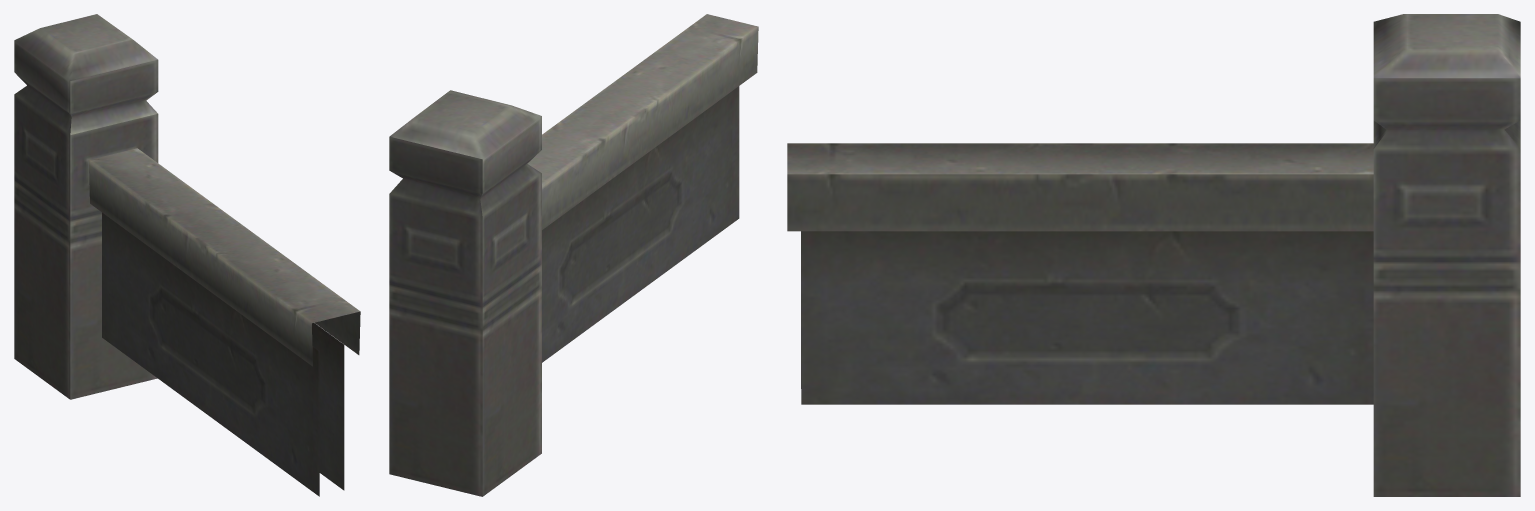
The model's file is City_bujian_28.fbx.
3 views of the same model, side by side, from view 1: azimuth 30°, elevation 25°; view 2: azimuth 150°, elevation 25°; view 3: azimuth 270°, elevation 25° (orthographic). The views are drawn at different scales.
Parts seen in each view (by area): view 1: City_1_2017_3_7_2:City_1_2017_3_7_2:City_1_2017_3_7_2:polySu; view 2: City_1_2017_3_7_2:City_1_2017_3_7_2:City_1_2017_3_7_2:polySu; view 3: City_1_2017_3_7_2:City_1_2017_3_7_2:City_1_2017_3_7_2:polySu.
Part boxes in pixels (x1=…): City_1_2017_3_7_2:City_1_2017_3_7_2:City_1_2017_3_7_2:polySu: x1=14, y1=14, x2=360, y2=496; City_1_2017_3_7_2:City_1_2017_3_7_2:City_1_2017_3_7_2:polySu: x1=389, y1=14, x2=758, y2=496; City_1_2017_3_7_2:City_1_2017_3_7_2:City_1_2017_3_7_2:polySu: x1=787, y1=14, x2=1520, y2=496.
Bounding box in the file's own units: 0.5225 × 1.89 × 2.87.
